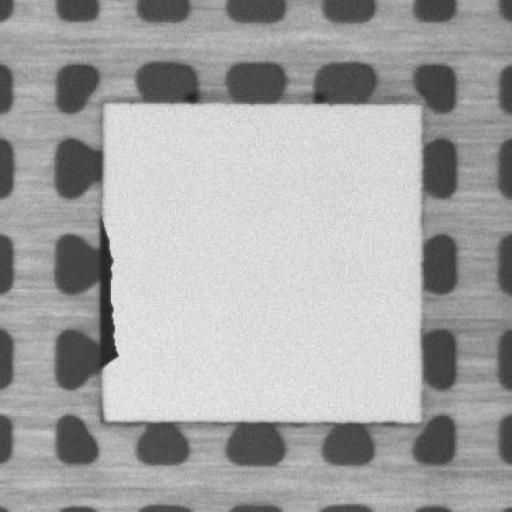DIE_BROKEN: (95, 220, 120, 372)
